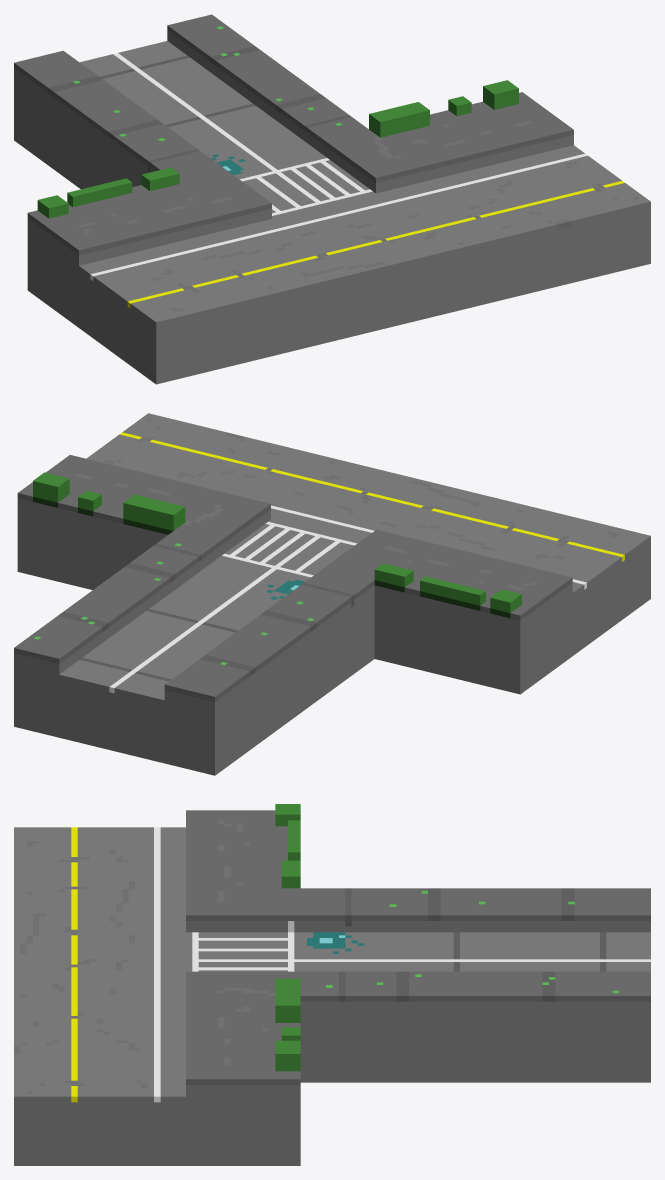
File: Intersection.vox.obj
The picture shows the model from 3 angles, top to bottom: view 1: azimuth 30°, elevation 25°; view 2: azimuth 150°, elevation 25°; view 3: azimuth 270°, elevation 25°; orthographic projection. The views are drawn at different scales.
Bounding box in the file's own units: 10 × 1.8 × 10.
Materials: 1 (1 with a texture image).
